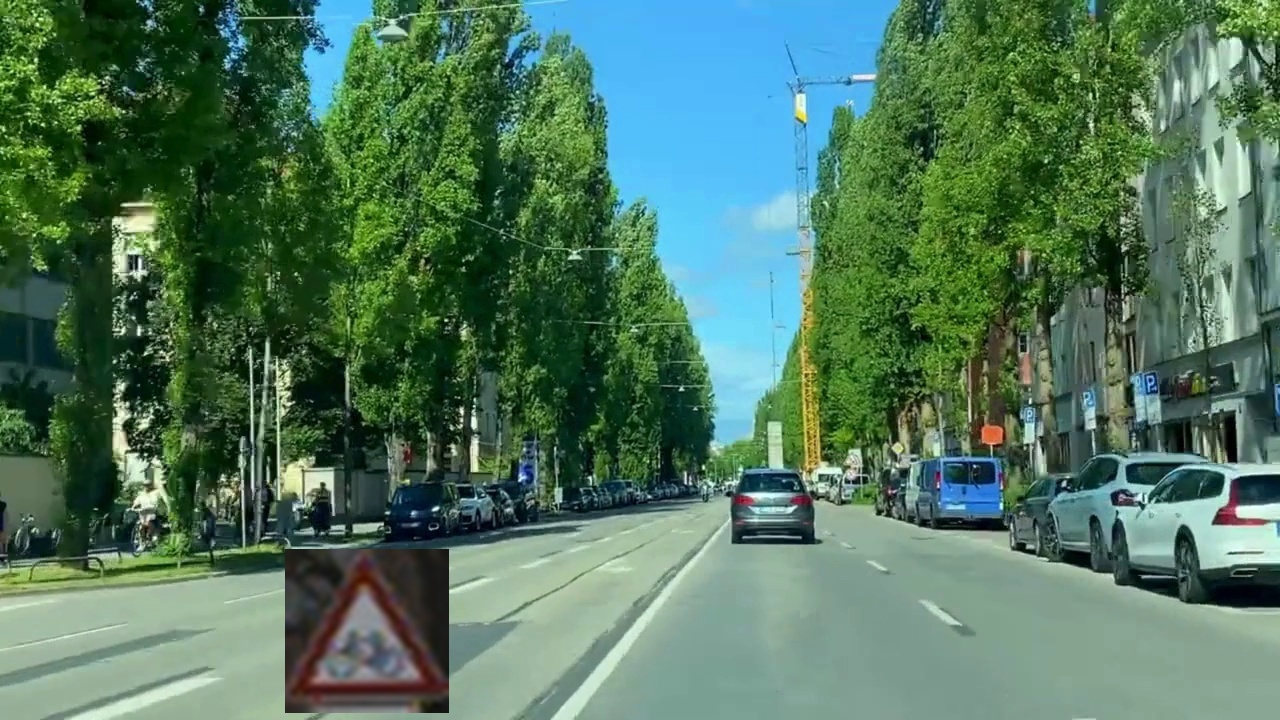Bicycles: (285, 549, 449, 713)
